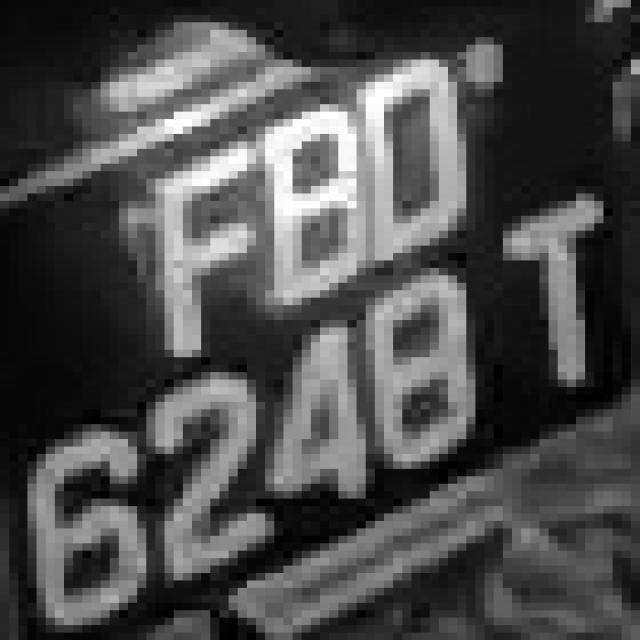2: (128, 365, 311, 610)
4: (238, 305, 384, 536)
6: (0, 424, 165, 640)
8: (347, 246, 503, 484)
B: (228, 97, 375, 305)
D: (356, 44, 484, 246)
F: (119, 112, 265, 350)
T: (476, 201, 604, 417)
